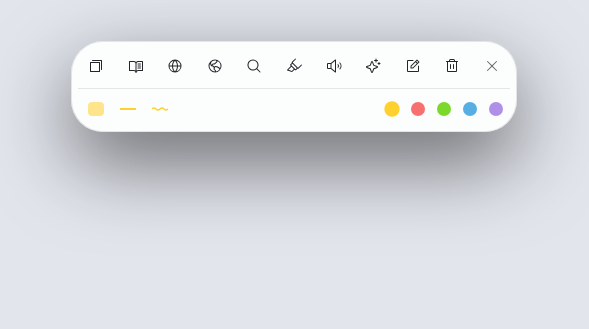
Test: SelectionToolbar note field › pre-fills the highlight's own note
What coordinates should you click on to do the following:
click the button named "记笔记"
I would click on:
 (413, 66)
Its box is [395, 48, 431, 84].
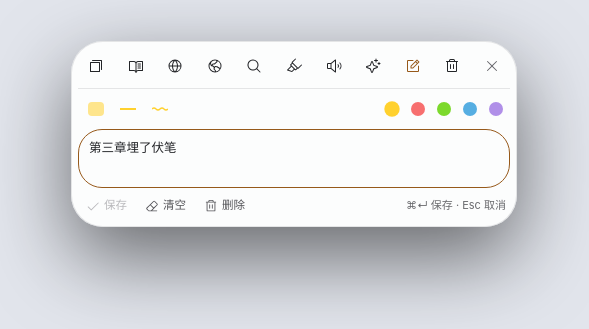
expect the text box named "笔记" holds "第三章埋了伏笔": met, box [78, 129, 510, 188]
